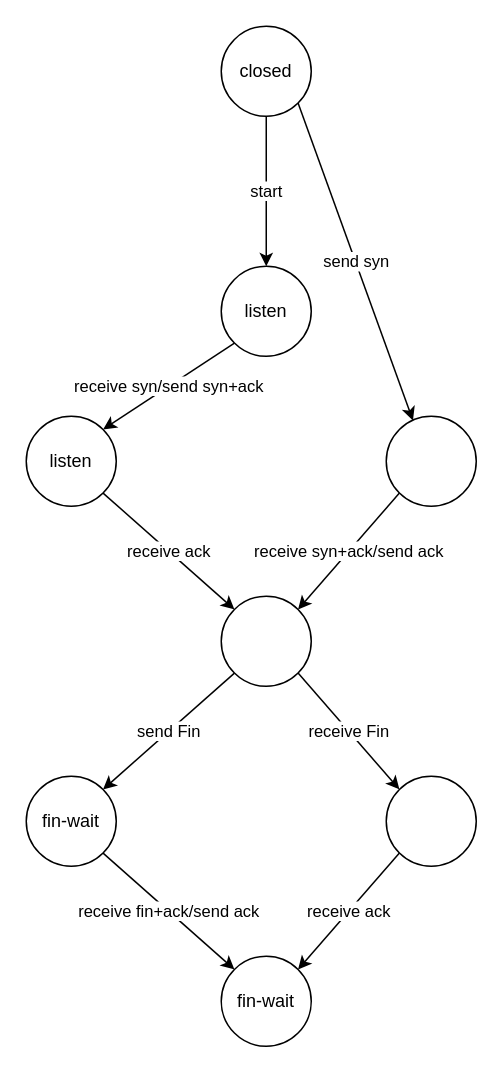
The diagram is 503 pixels wide and 1073 high, and some of its shapes have lost their labels. Here are the shapes that lost their labels. From the top down, the centre of each, then its label:
At [430,460]: "syn sent".
At [265,640]: "established".
At [430,820]: "close-wait".
